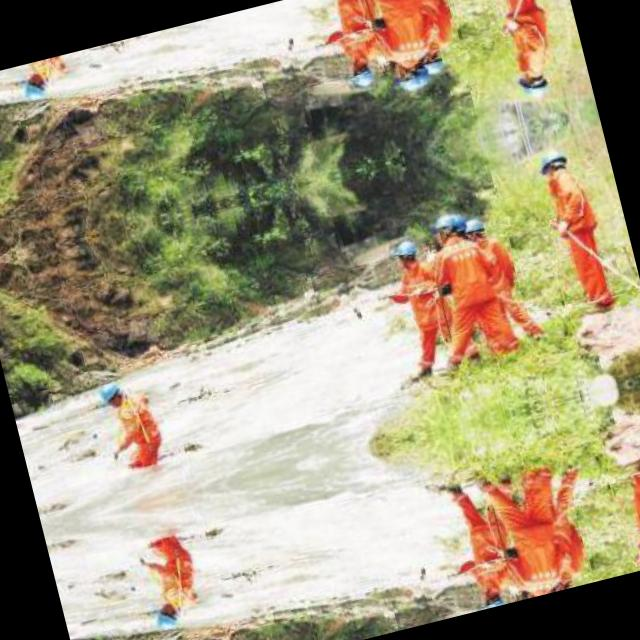helmet: (428, 206, 467, 244), (391, 60, 430, 98), (91, 374, 129, 412), (15, 70, 53, 108), (147, 599, 185, 637), (534, 146, 570, 182), (514, 66, 550, 102), (386, 232, 417, 272), (455, 212, 486, 251), (342, 56, 373, 95), (412, 42, 443, 81), (474, 586, 502, 607), (544, 572, 571, 590)
